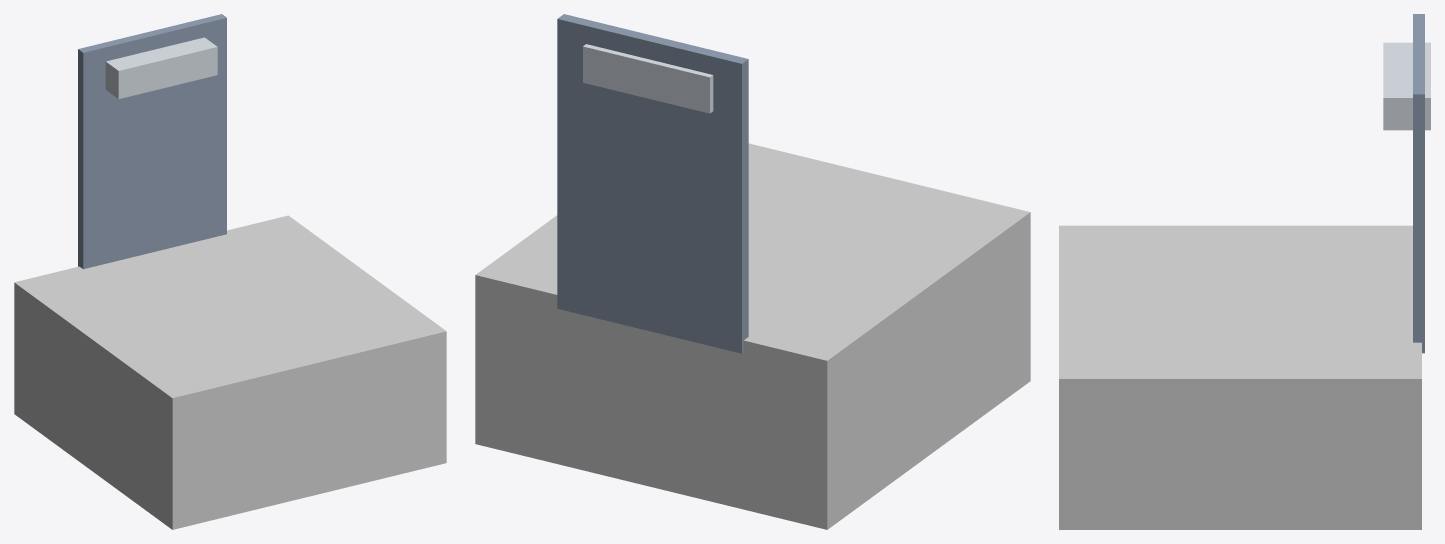
Rendered from fixture-mop-sink.glb.
3 views of the same model, side by side, from view 1: azimuth 30°, elevation 25°; view 2: azimuth 150°, elevation 25°; view 3: azimuth 270°, elevation 25° (orthographic). The views are drawn at different scales.
Parts seen in each view (by area): view 1: plumbing-fixture-mop-sink; view 2: plumbing-fixture-mop-sink; view 3: plumbing-fixture-mop-sink.
Boxes of the visible parts, x1=… form: plumbing-fixture-mop-sink: x1=14, y1=14, x2=446, y2=529; plumbing-fixture-mop-sink: x1=475, y1=14, x2=1030, y2=529; plumbing-fixture-mop-sink: x1=1059, y1=14, x2=1430, y2=529.
Bounding box in the file's own units: 0.61 × 0.74 × 0.625.
